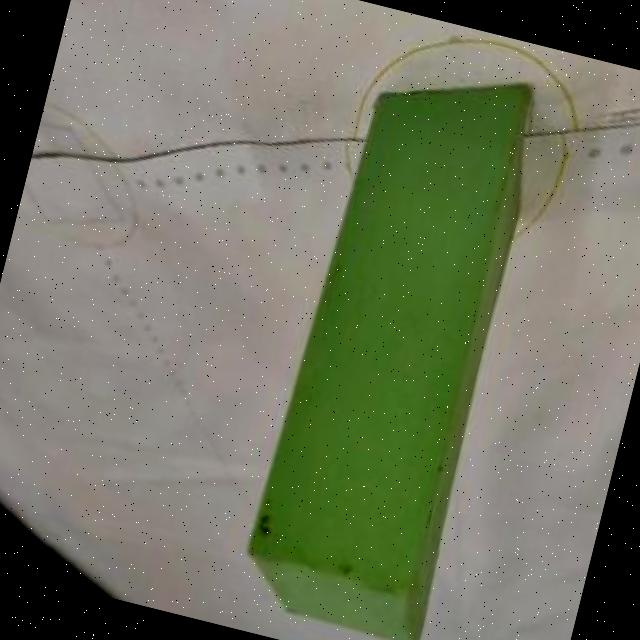greenbox: (236, 56, 557, 640)
